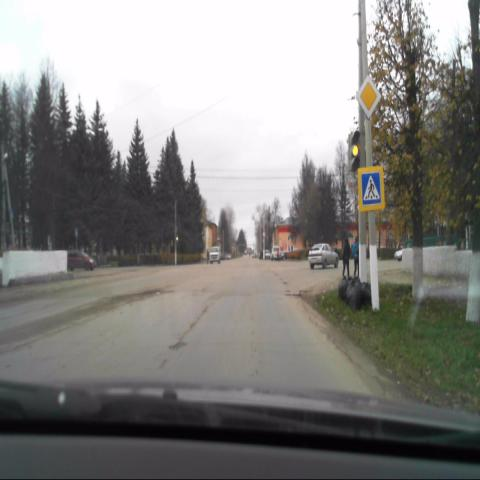2_1: (357, 76, 381, 118)
5_19_1: (357, 167, 385, 211)
